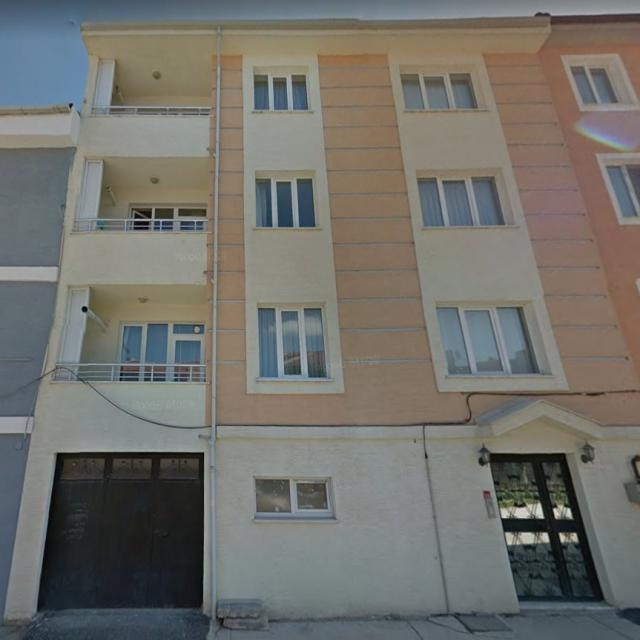Building: (4, 15, 640, 640)
